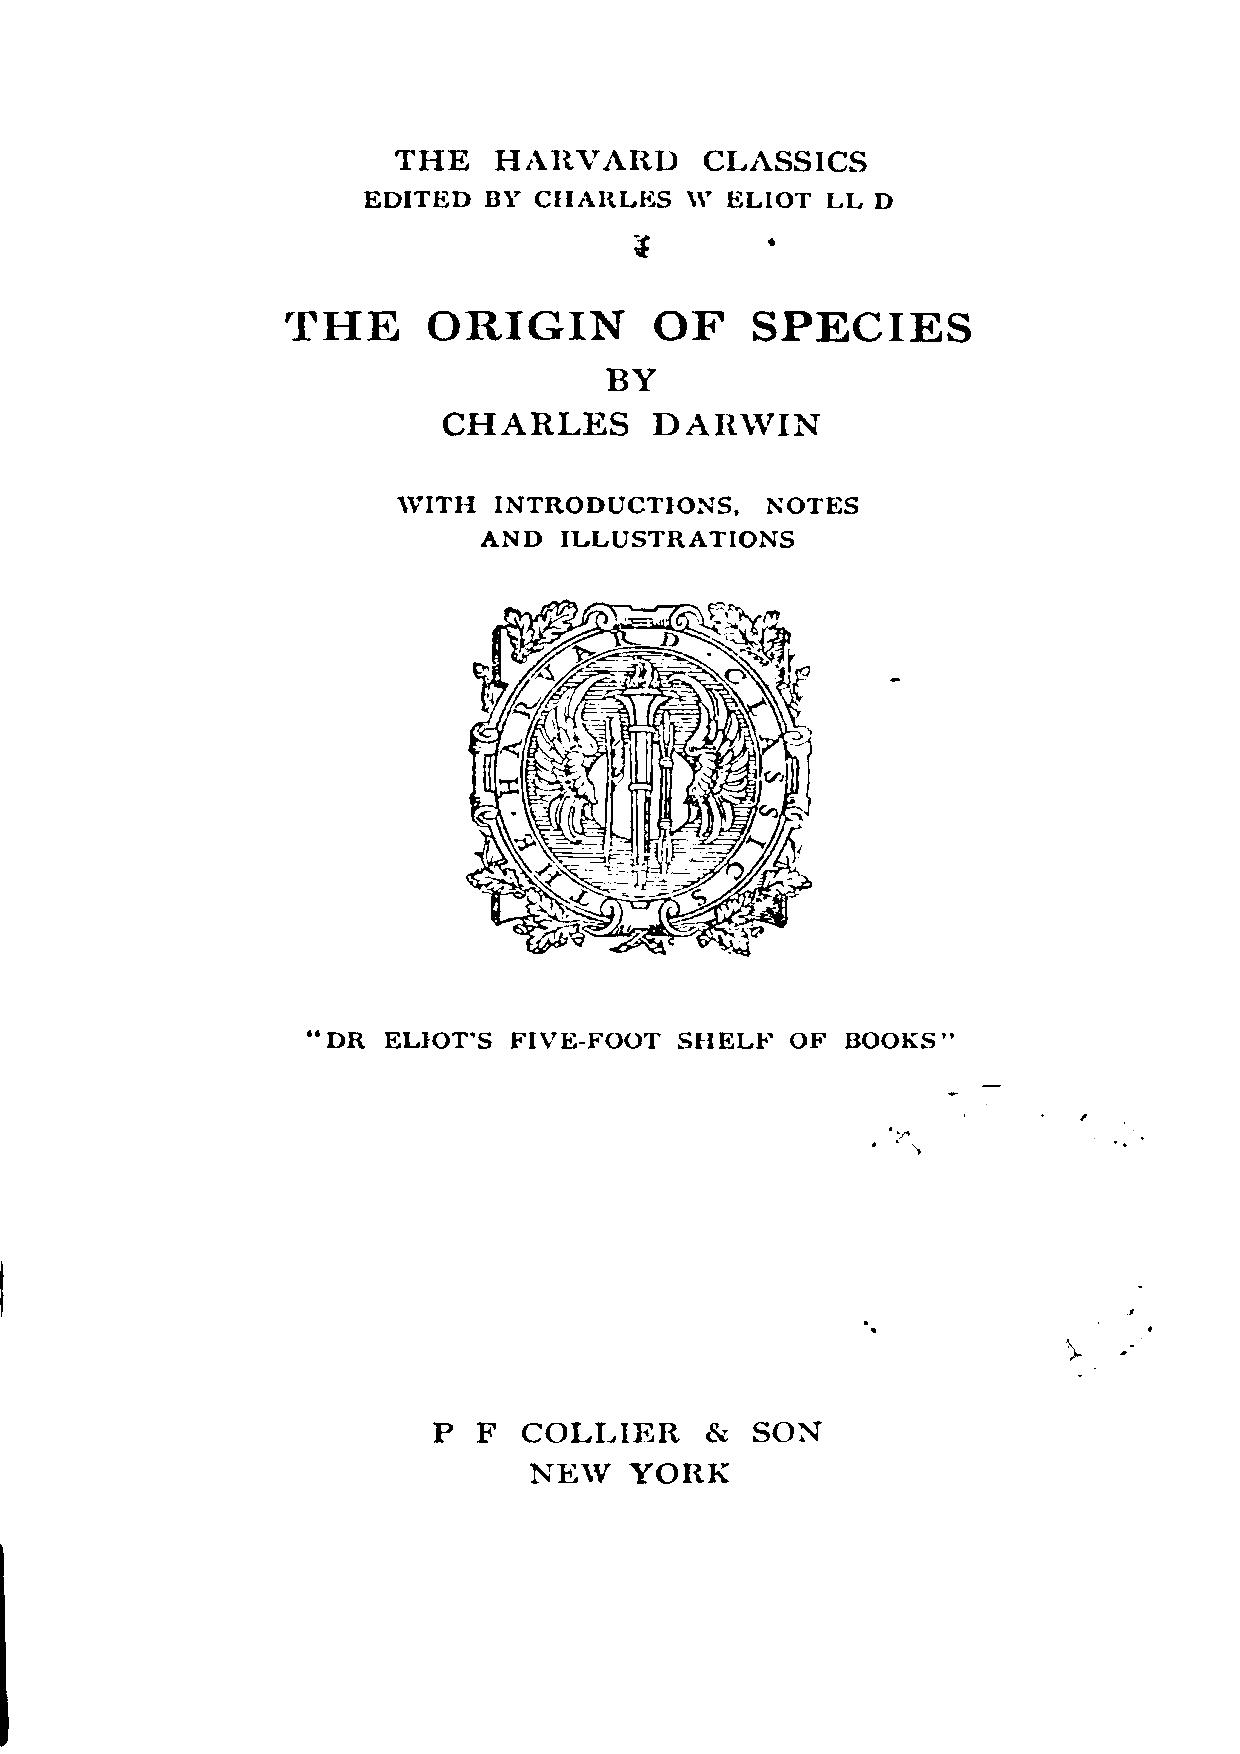author: (437, 364, 820, 440)
title: (276, 307, 976, 344)
